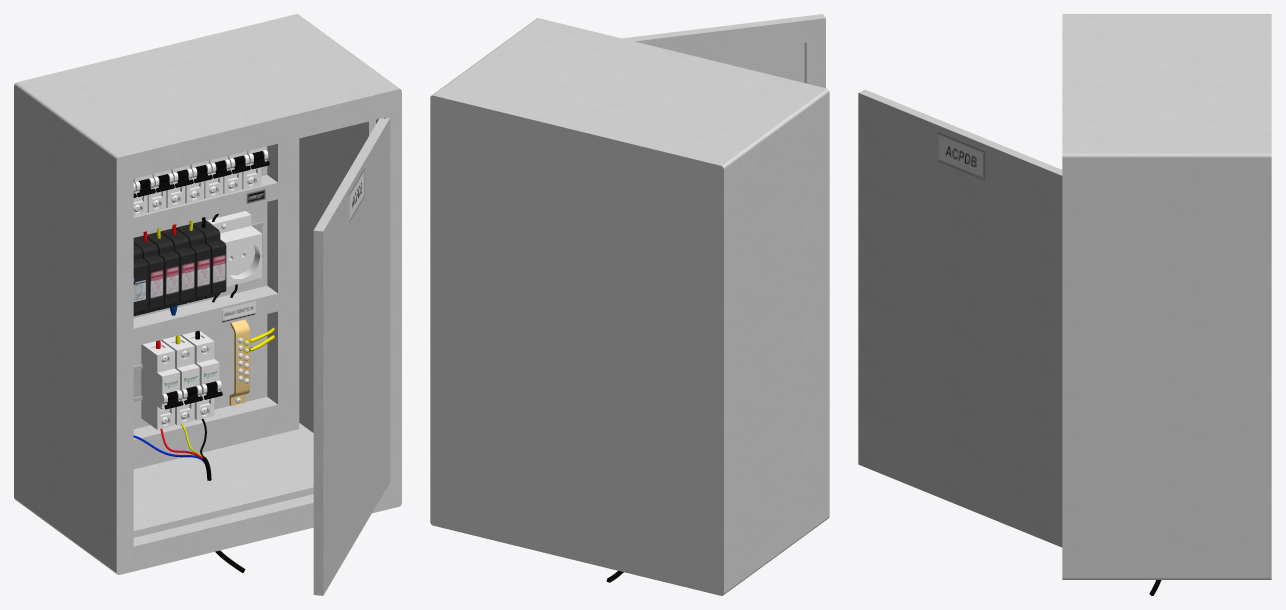
File: ACPDB Model.fbx
The picture shows the model from 3 angles, left to right: view 1: azimuth 30°, elevation 25°; view 2: azimuth 150°, elevation 25°; view 3: azimuth 270°, elevation 25°; orthographic projection. The views are drawn at different scales.
Visible parts, largest first — view 1: Cube.002, Cube.003, Cube, Cube.004, Cube.010, Cube.001, Cylinder.007, Cube.006, Plane.003, Cube.005, Cube.007; view 2: Cube.002, Cube.003; view 3: Cube.002, Cube.003.
Part boxes in pixels (x1,y1,x2,y2): Cube.002: [14, 14, 401, 574]; Cube.003: [313, 117, 390, 595]; Cube: [133, 138, 299, 469]; Cube.004: [133, 220, 226, 314]; Cube.010: [141, 331, 221, 429]; Cube.001: [133, 146, 268, 216]; Cylinder.007: [207, 211, 261, 286]; Cube.006: [133, 151, 269, 197]; Plane.003: [229, 319, 249, 405]; Cube.005: [133, 243, 148, 316]; Cube.007: [164, 381, 222, 409]; Cube.002: [430, 18, 829, 595]; Cube.003: [622, 14, 825, 87]; Cube.002: [1062, 14, 1271, 579]; Cube.003: [858, 89, 1062, 547].
Bounding box in the file's own units: 102 × 167 × 126.
Materials: 8 (4 with a texture image).
